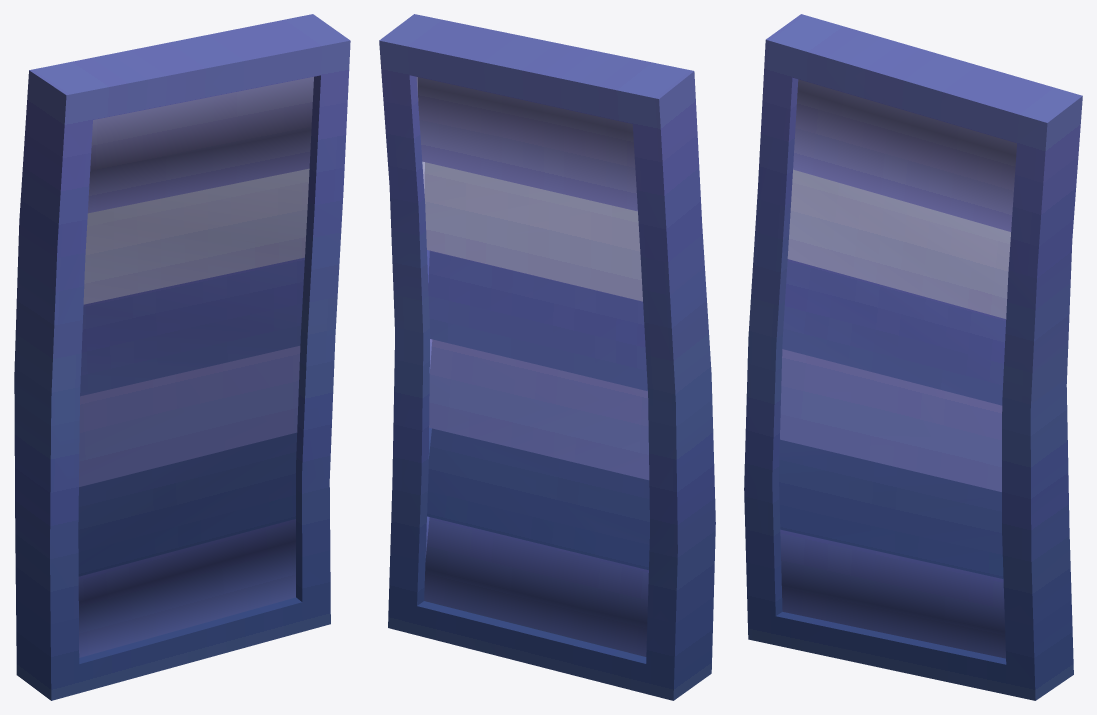
File: Window_Shutter_001.FBX
3 views of the same model, side by side, from view 1: azimuth 30°, elevation 25°; view 2: azimuth 150°, elevation 25°; view 3: azimuth 330°, elevation 25° (orthographic).
Parts seen in each view (by area): view 1: Window_Shutter; view 2: Window_Shutter; view 3: Window_Shutter.
Part boxes in pixels (x1=…): Window_Shutter: x1=14, y1=14, x2=350, y2=700; Window_Shutter: x1=379, y1=14, x2=715, y2=700; Window_Shutter: x1=744, y1=14, x2=1082, y2=700.
Size of the model in its own units: 0.1066 by 0.0256 by 0.2034.
